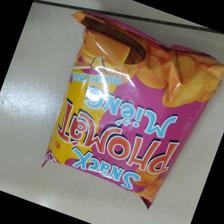Oishi_phomat: (41, 8, 224, 212)
